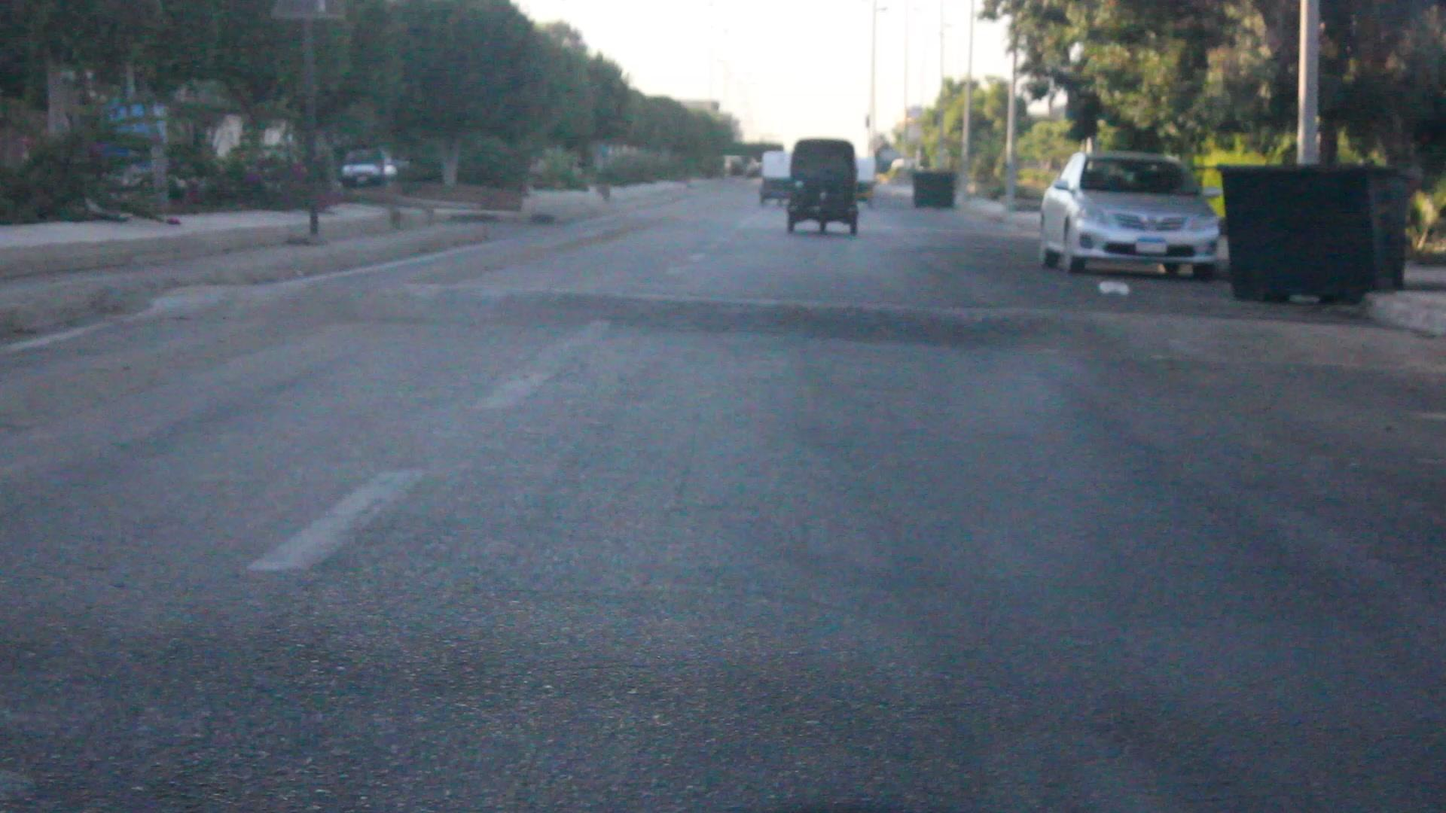Bump: (144, 274, 1445, 361)
